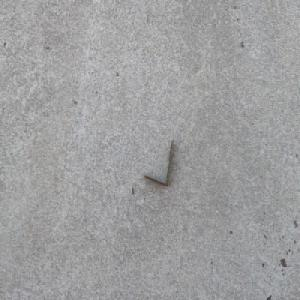MetalPart: (144, 138, 174, 187)
